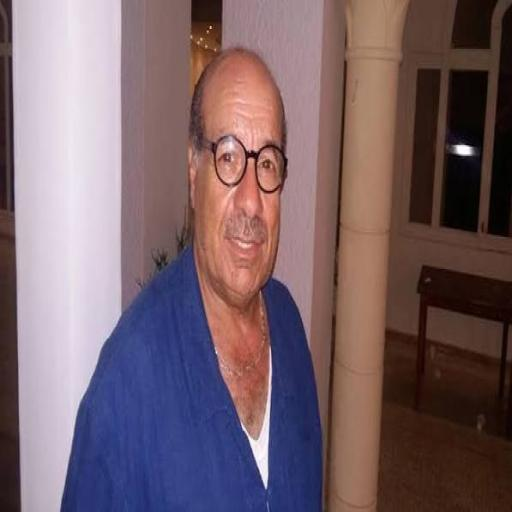beji_matrix: (190, 50, 285, 303)
